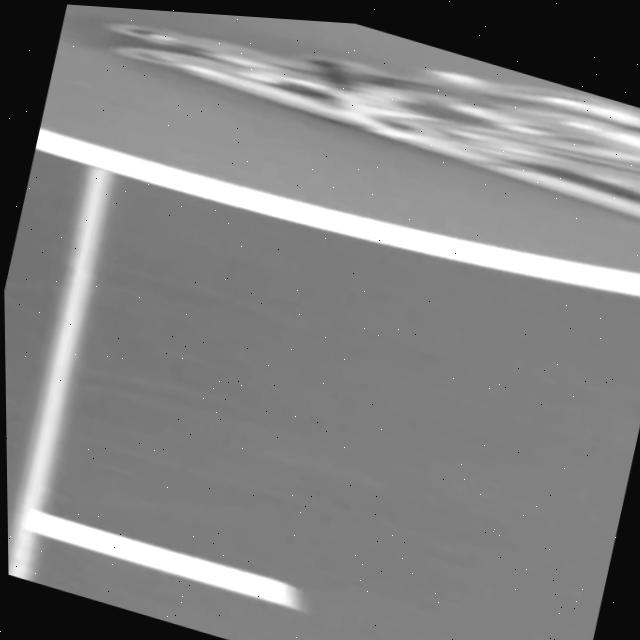center: (25, 509, 299, 609)
left: (34, 127, 640, 296)
